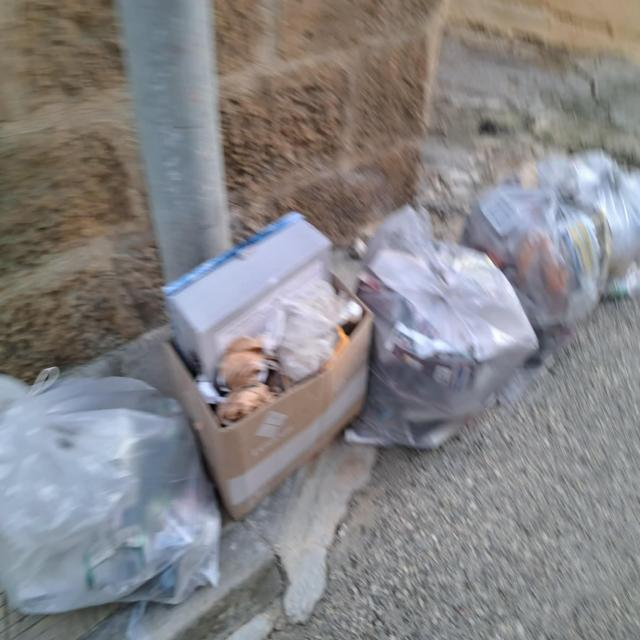Other: (157, 215, 375, 523)
Recycled Waste -Grey or Green Bag-: (1, 374, 224, 617), (344, 206, 540, 454), (460, 188, 612, 346), (540, 153, 640, 300)
